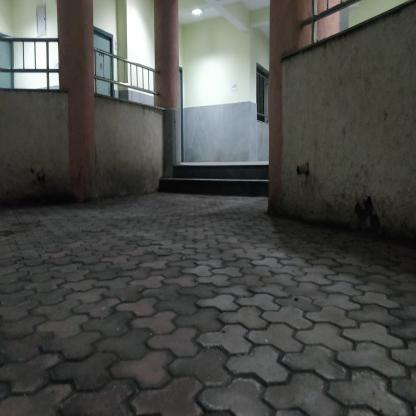stairs: (173, 163, 270, 198)
